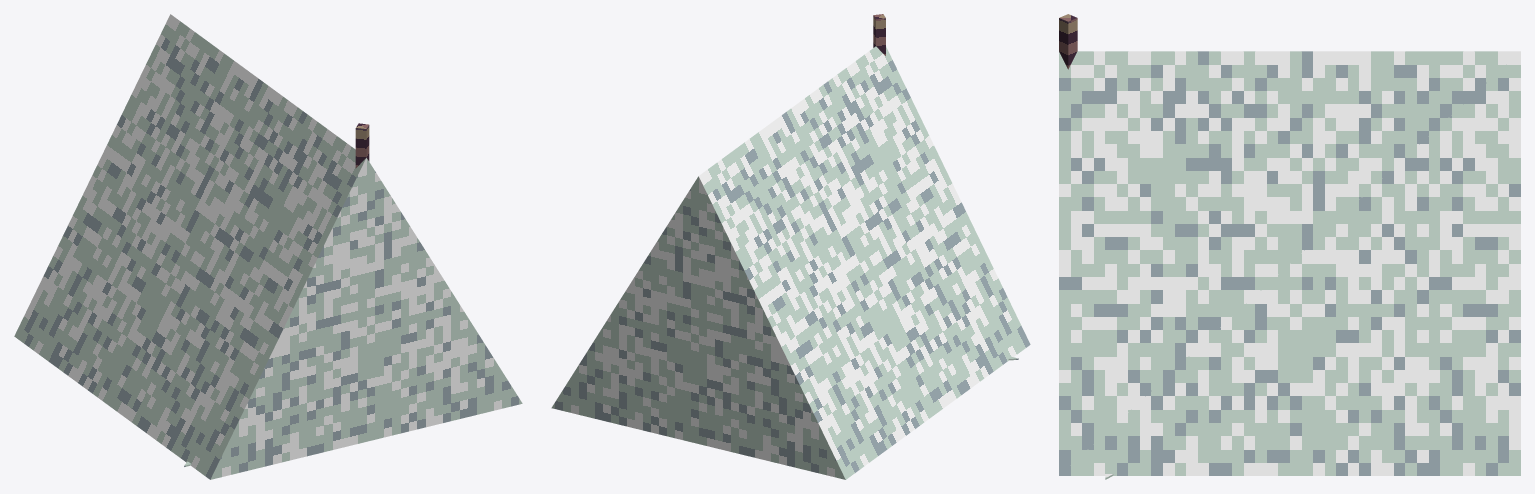
File: acampamento_escavadores_tenda_2.glb
3 views of the same model, side by side, from view 1: azimuth 30°, elevation 25°; view 2: azimuth 150°, elevation 25°; view 3: azimuth 270°, elevation 25° (orthographic). The views are drawn at different scales.
Visible parts, largest first — view 1: acampamento_escavadores_tenda_2; view 2: acampamento_escavadores_tenda_2; view 3: acampamento_escavadores_tenda_2.
Boxes of the visible parts, box(x1,y1,x2,y2) form: acampamento_escavadores_tenda_2: box(14, 14, 522, 479); acampamento_escavadores_tenda_2: box(551, 14, 1030, 479); acampamento_escavadores_tenda_2: box(1059, 14, 1520, 479).
Bounding box in the file's own units: 2.4 × 2.2 × 2.5.
Materials: 2 (2 with a texture image).
